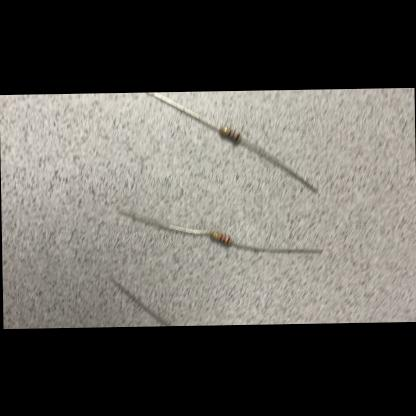resistor: (219, 126, 240, 142), (208, 232, 230, 244)
wire: (239, 134, 315, 193), (146, 91, 218, 134), (116, 206, 208, 238), (110, 280, 168, 326), (232, 240, 320, 254)
